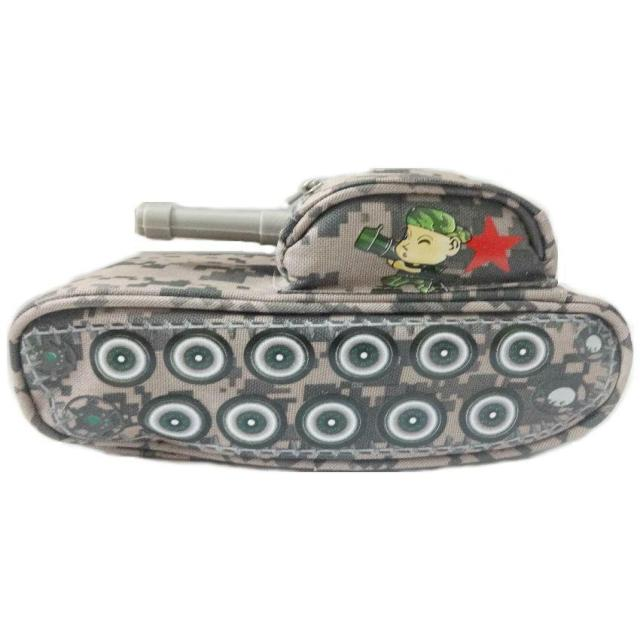Tanks: (6, 169, 634, 456)
